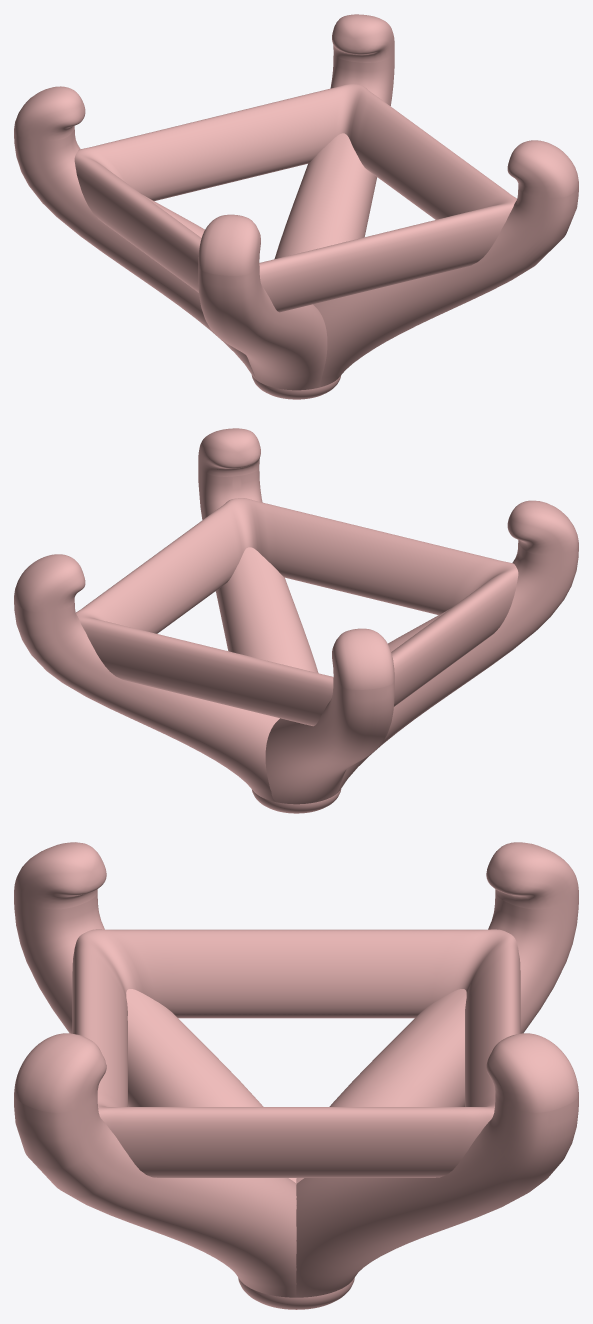
The model's file is PRINCESS.glb.
3 renders of one model, top to bottom at view 1: azimuth 30°, elevation 25°; view 2: azimuth 150°, elevation 25°; view 3: azimuth 270°, elevation 25°, orthographic. The views are drawn at different scales.
Visible parts, largest first — view 1: Princess; view 2: Princess; view 3: Princess.
Part boxes in pixels (x1=…): Princess: x1=14, y1=14, x2=578, y2=399; Princess: x1=14, y1=428, x2=578, y2=813; Princess: x1=14, y1=842, x2=578, y2=1309.
Bounding box in the file's own units: 6.23 × 4.31 × 6.23.
